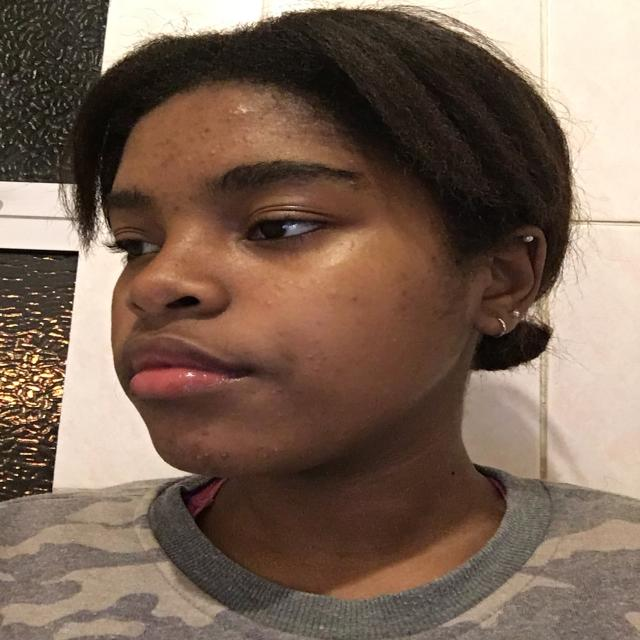Acne: (232, 133, 256, 148), (205, 141, 230, 155), (399, 290, 416, 310), (160, 158, 175, 172), (196, 126, 213, 138), (174, 156, 194, 166), (165, 138, 180, 151), (224, 114, 239, 125), (194, 453, 212, 462), (270, 444, 284, 454), (280, 135, 296, 143), (200, 428, 211, 439), (310, 364, 324, 372), (172, 204, 184, 213), (218, 451, 231, 459), (350, 294, 361, 303), (171, 259, 182, 268), (268, 388, 282, 395), (310, 278, 322, 286), (268, 288, 280, 296), (160, 189, 173, 196), (258, 113, 268, 122), (193, 118, 205, 125), (262, 300, 276, 306), (277, 409, 284, 419), (284, 280, 294, 286), (307, 355, 314, 361), (391, 337, 399, 342)
